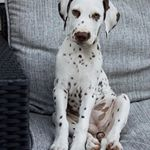puppy: (43, 1, 137, 149)
